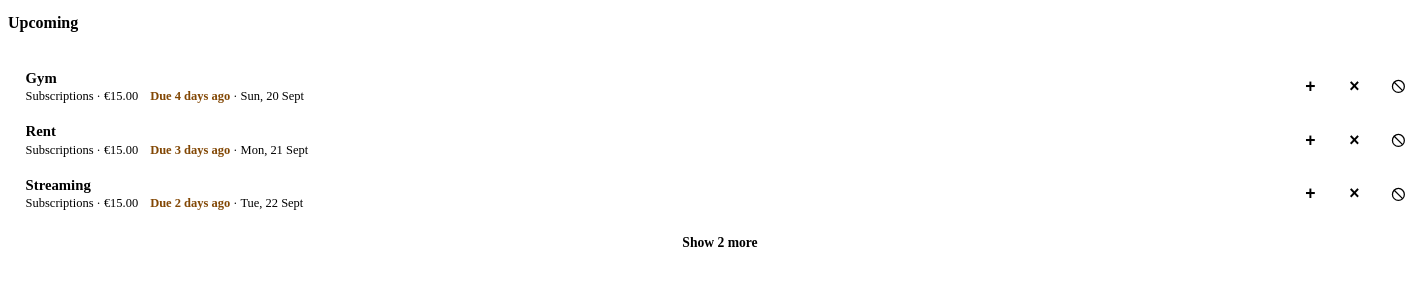
Scenario: UpcomingCard › a long card › shows every row once a dismissal brings it down to four, and the button goes
The width and height of the screenshot is (1422, 281).
Click the button named "Dismiss Gym". click: (1354, 87)
box: [1338,71,1370,103]
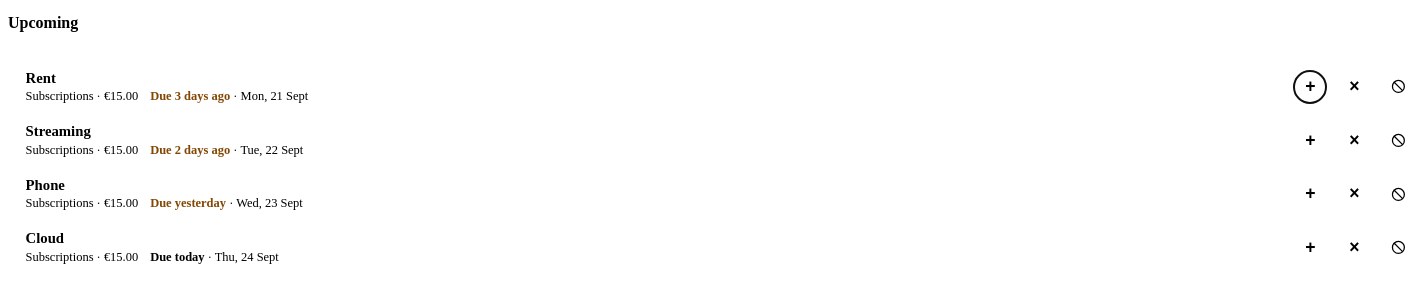
Result: the button "Show " is gone
